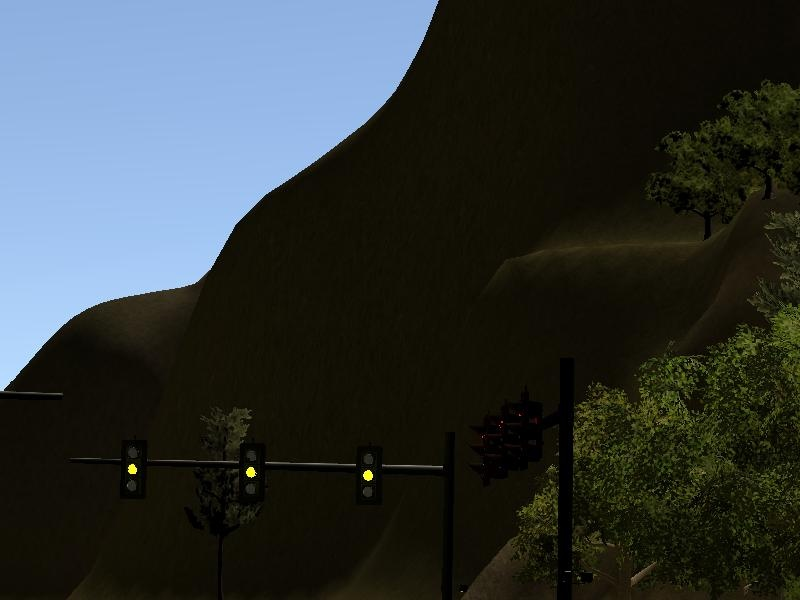YELLOW: (233, 437, 269, 503), (353, 446, 383, 510), (120, 438, 144, 502)
